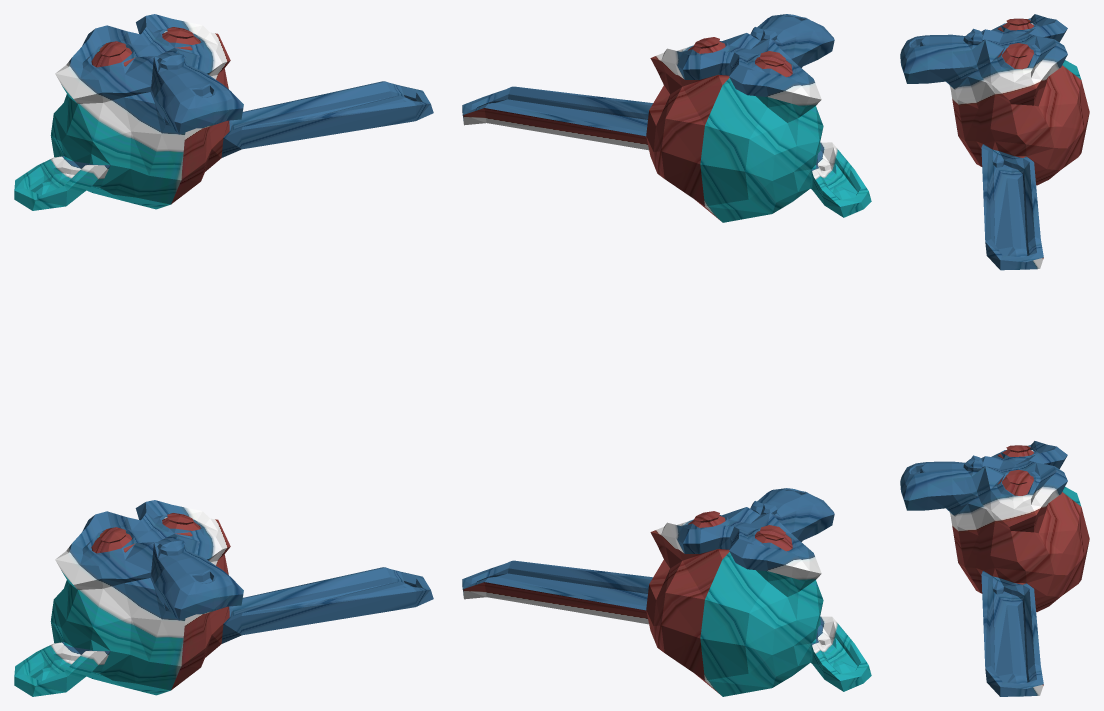
File: three.dae
The picture shows the model from 3 angles, left to right: view 1: azimuth 30°, elevation 25°; view 2: azimuth 150°, elevation 25°; view 3: azimuth 270°, elevation 25°; orthographic projection. The views are drawn at different scales.
Parts seen in each view (by area): view 1: 猴头, 猴头.001; view 2: 猴头, 猴头.001; view 3: 猴头, 猴头.001.
Boxes of the visible parts, bbox=[...] form: 猴头: bbox=[14, 500, 433, 696]; 猴头.001: bbox=[14, 14, 433, 210]; 猴头: bbox=[462, 488, 871, 696]; 猴头.001: bbox=[462, 14, 871, 222]; 猴头: bbox=[900, 441, 1089, 696]; 猴头.001: bbox=[900, 14, 1089, 270].
Size of the model in its own units: 4.33 by 1.97 by 6.59.
1 material, 1 textured.
